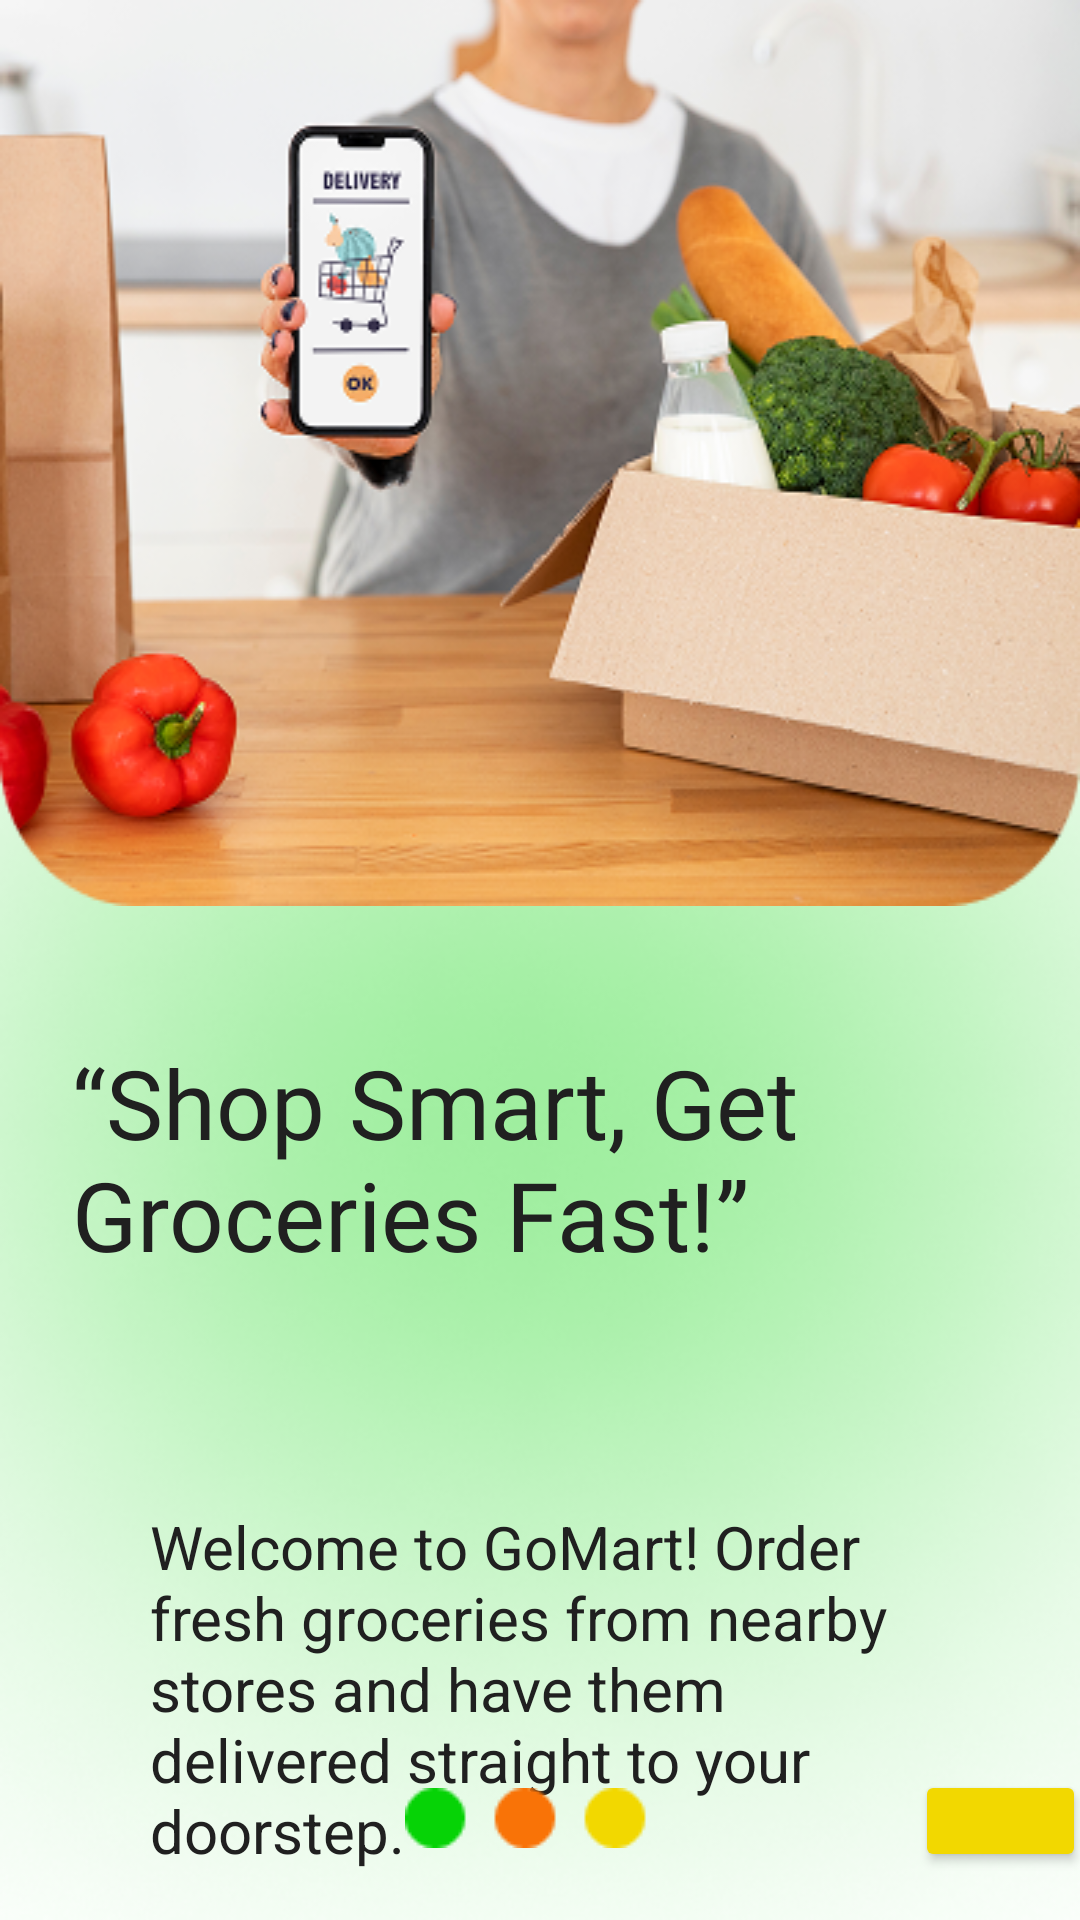

Where icons sit on this 1080 x 1920 app screen, as (x1=x1, y1=y1, x2=x2, y2=y2):
dots: (x1=405, y1=1788, x2=646, y2=1848)
